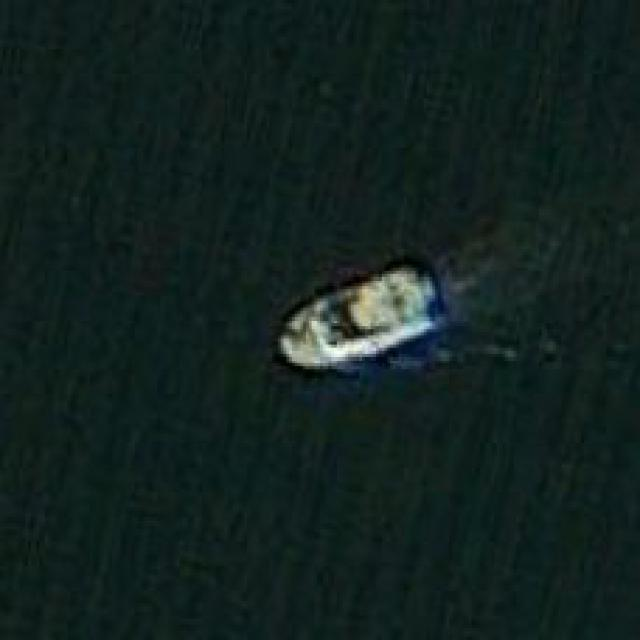boat: (278, 262, 441, 369)
